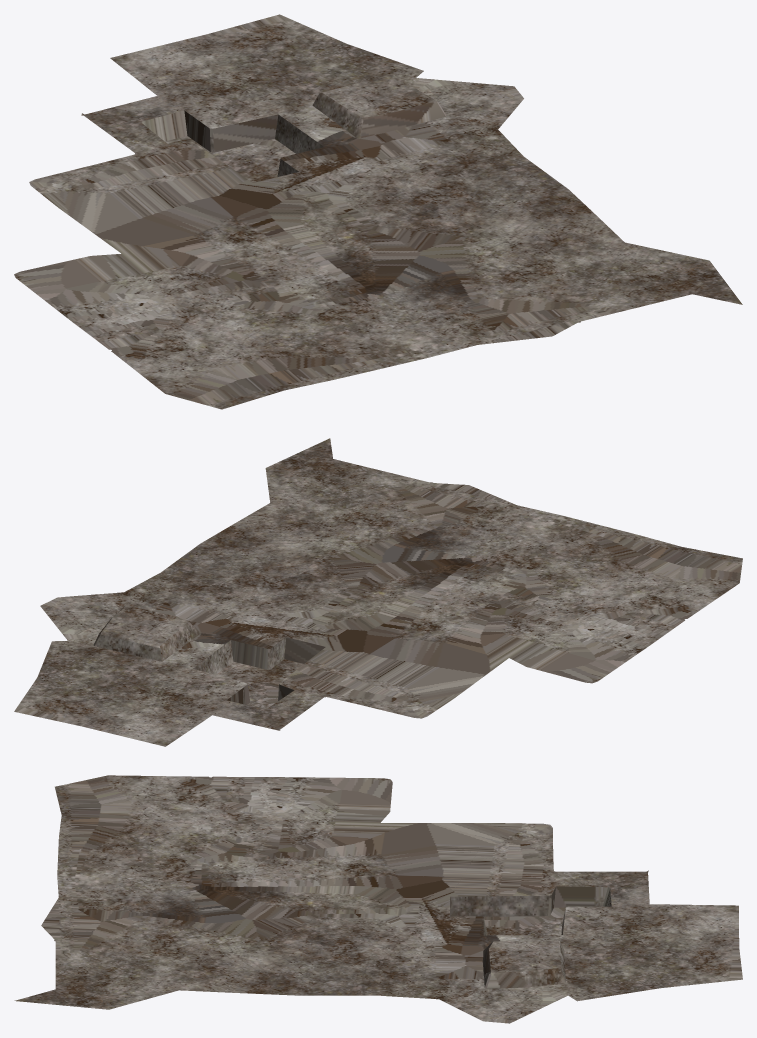
File: suelo.obj
3 renders of one model, top to bottom at view 1: azimuth 30°, elevation 25°; view 2: azimuth 150°, elevation 25°; view 3: azimuth 270°, elevation 25°, orthographic. The views are drawn at different scales.
Visible parts, largest first — view 1: suelo_t_2; view 2: suelo_t_2; view 3: suelo_t_2.
Boxes of the visible parts, x1,y1,x2,y2 form: suelo_t_2: (14, 14, 742, 409); suelo_t_2: (14, 438, 742, 746); suelo_t_2: (14, 775, 742, 1023).
Bounding box in the file's own units: 250 × 15.2 × 311.
